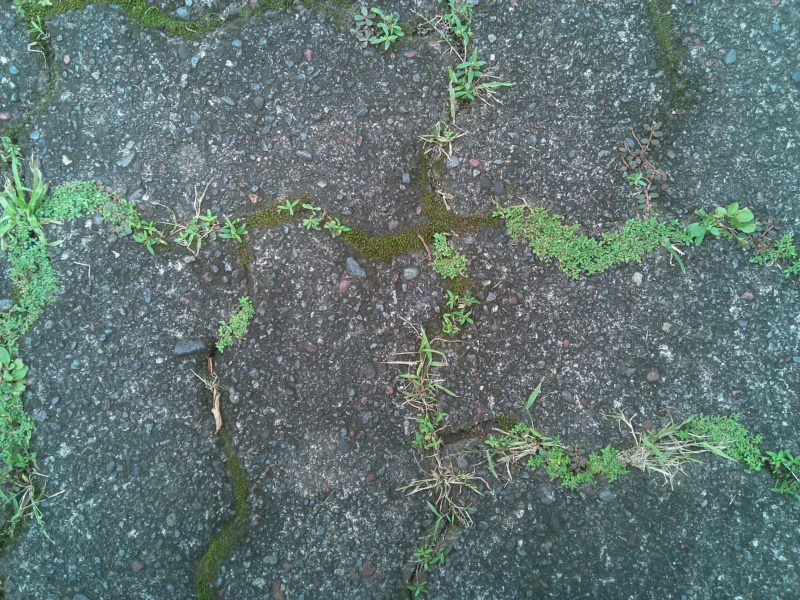Weed: (490, 197, 672, 279), (484, 415, 624, 499), (28, 177, 168, 258), (400, 331, 458, 459), (3, 224, 60, 334), (622, 418, 706, 492), (687, 410, 770, 477), (3, 145, 50, 254), (683, 196, 764, 246), (422, 461, 457, 574), (445, 54, 505, 109), (177, 210, 251, 253), (280, 199, 348, 245), (208, 297, 260, 351), (3, 340, 36, 418), (758, 227, 800, 284), (420, 120, 467, 170), (348, 8, 403, 50), (426, 231, 467, 279), (438, 289, 476, 337), (27, 17, 53, 47)
